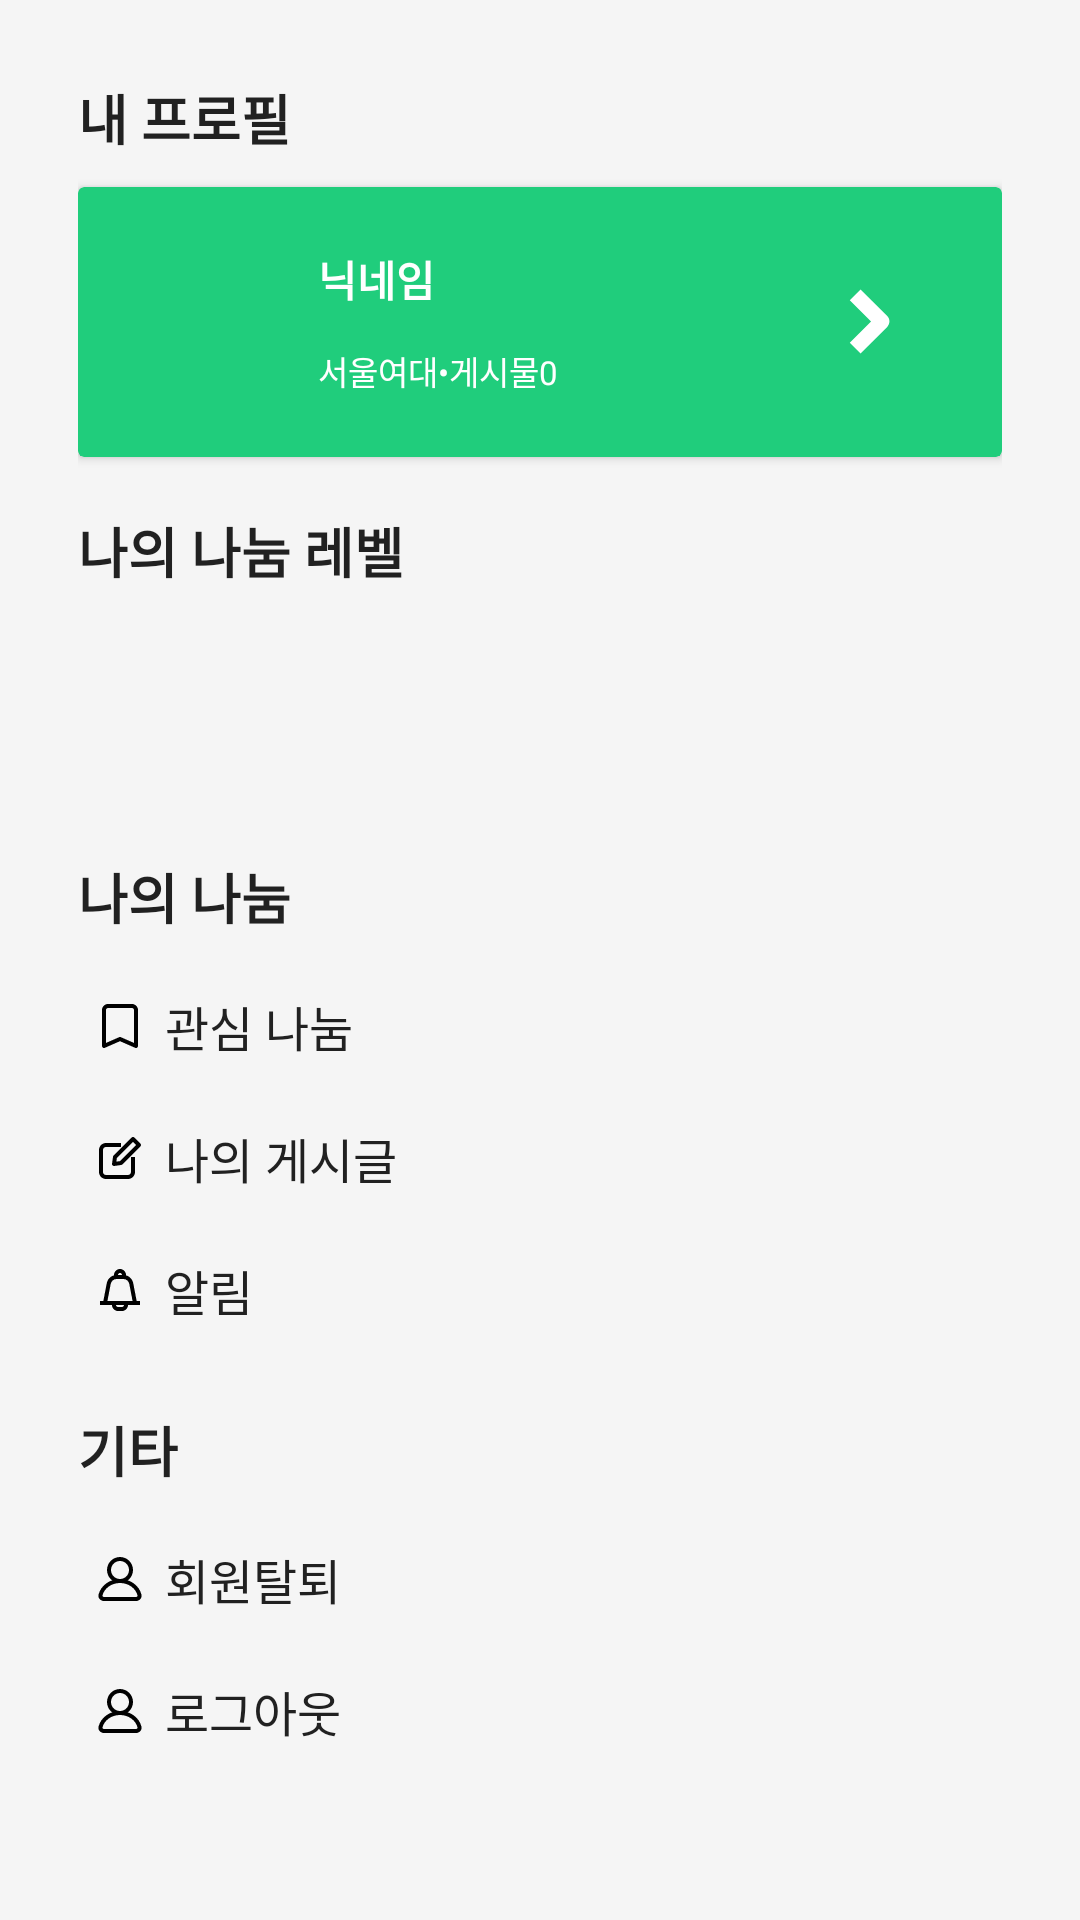

Locate icon controls on the screen. Image size 1080 × 1920, boxes as (x1, y1, x2, y2).
mypage profile chevron right: (850, 289, 890, 354)
